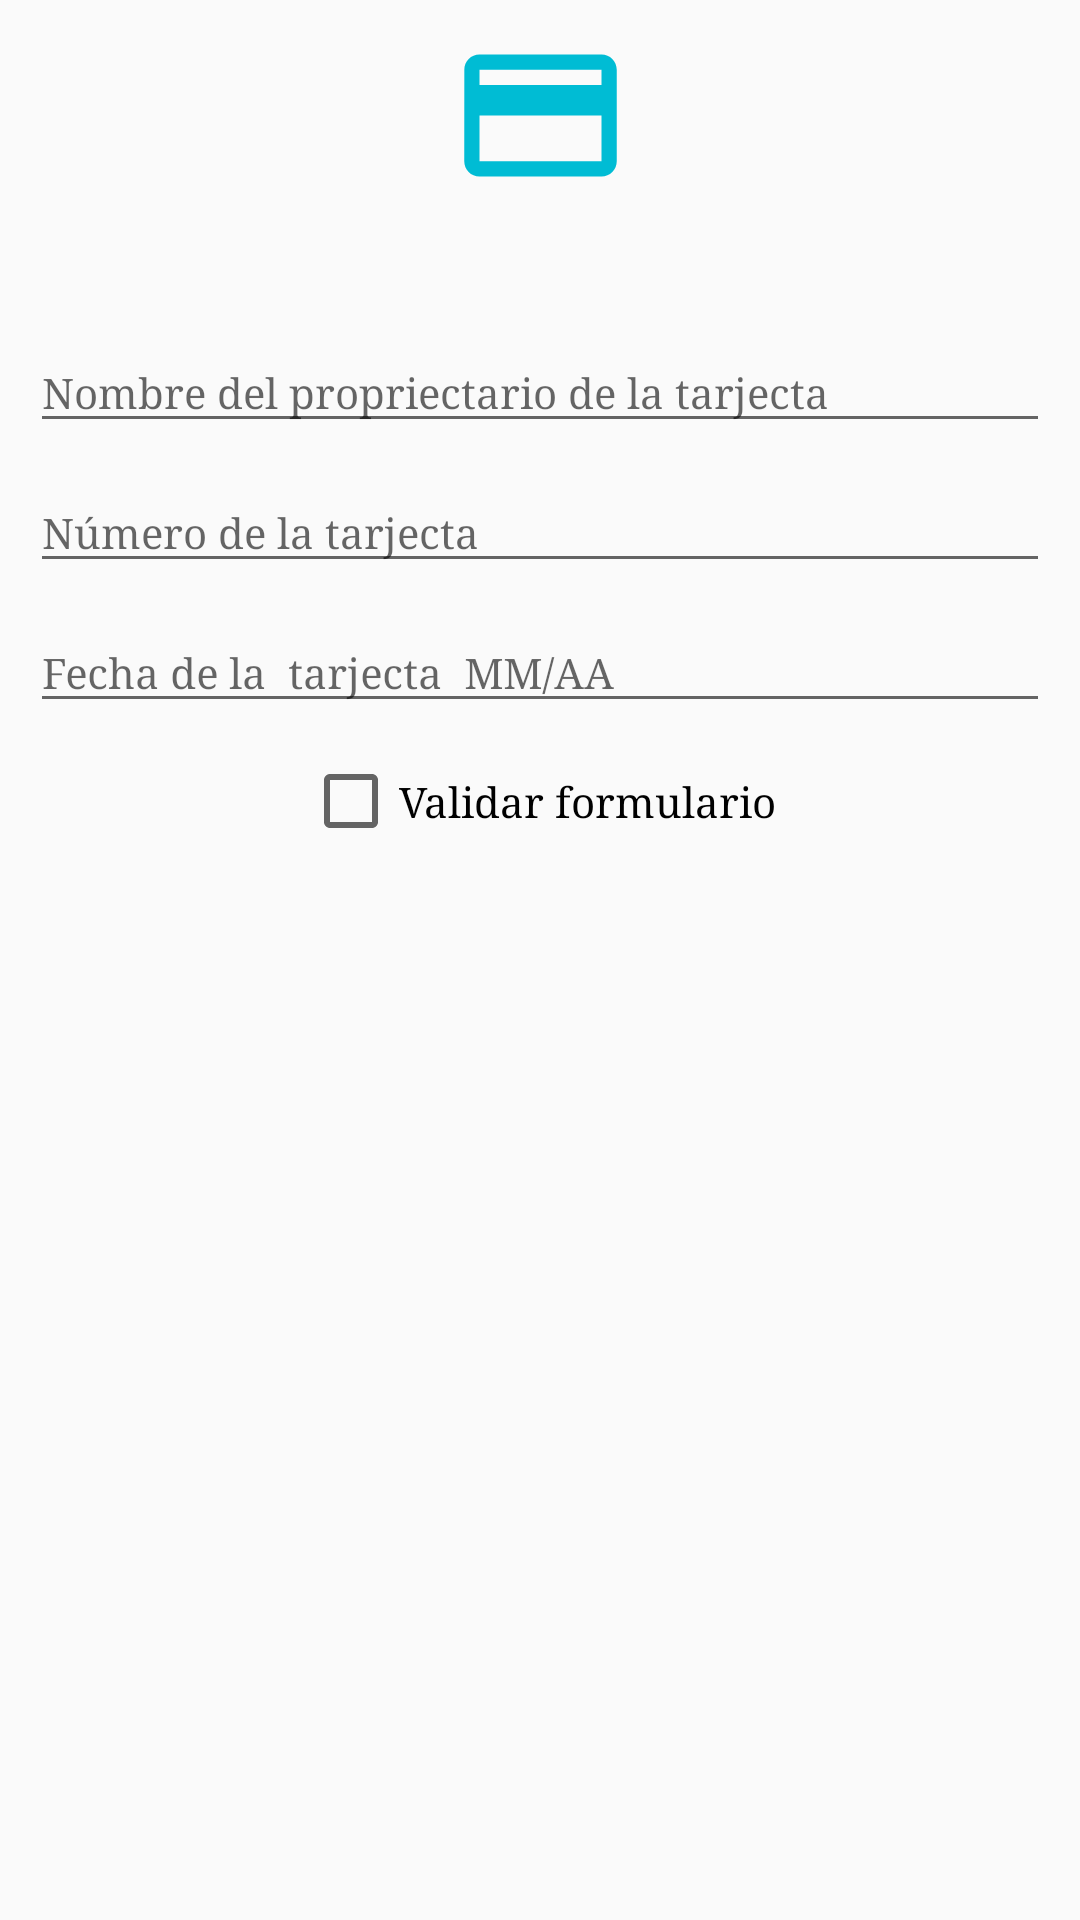

Point at icon controls on the screen. Image size 1080w x 1920h, points as (x,y).
credit pay: (540,115)
